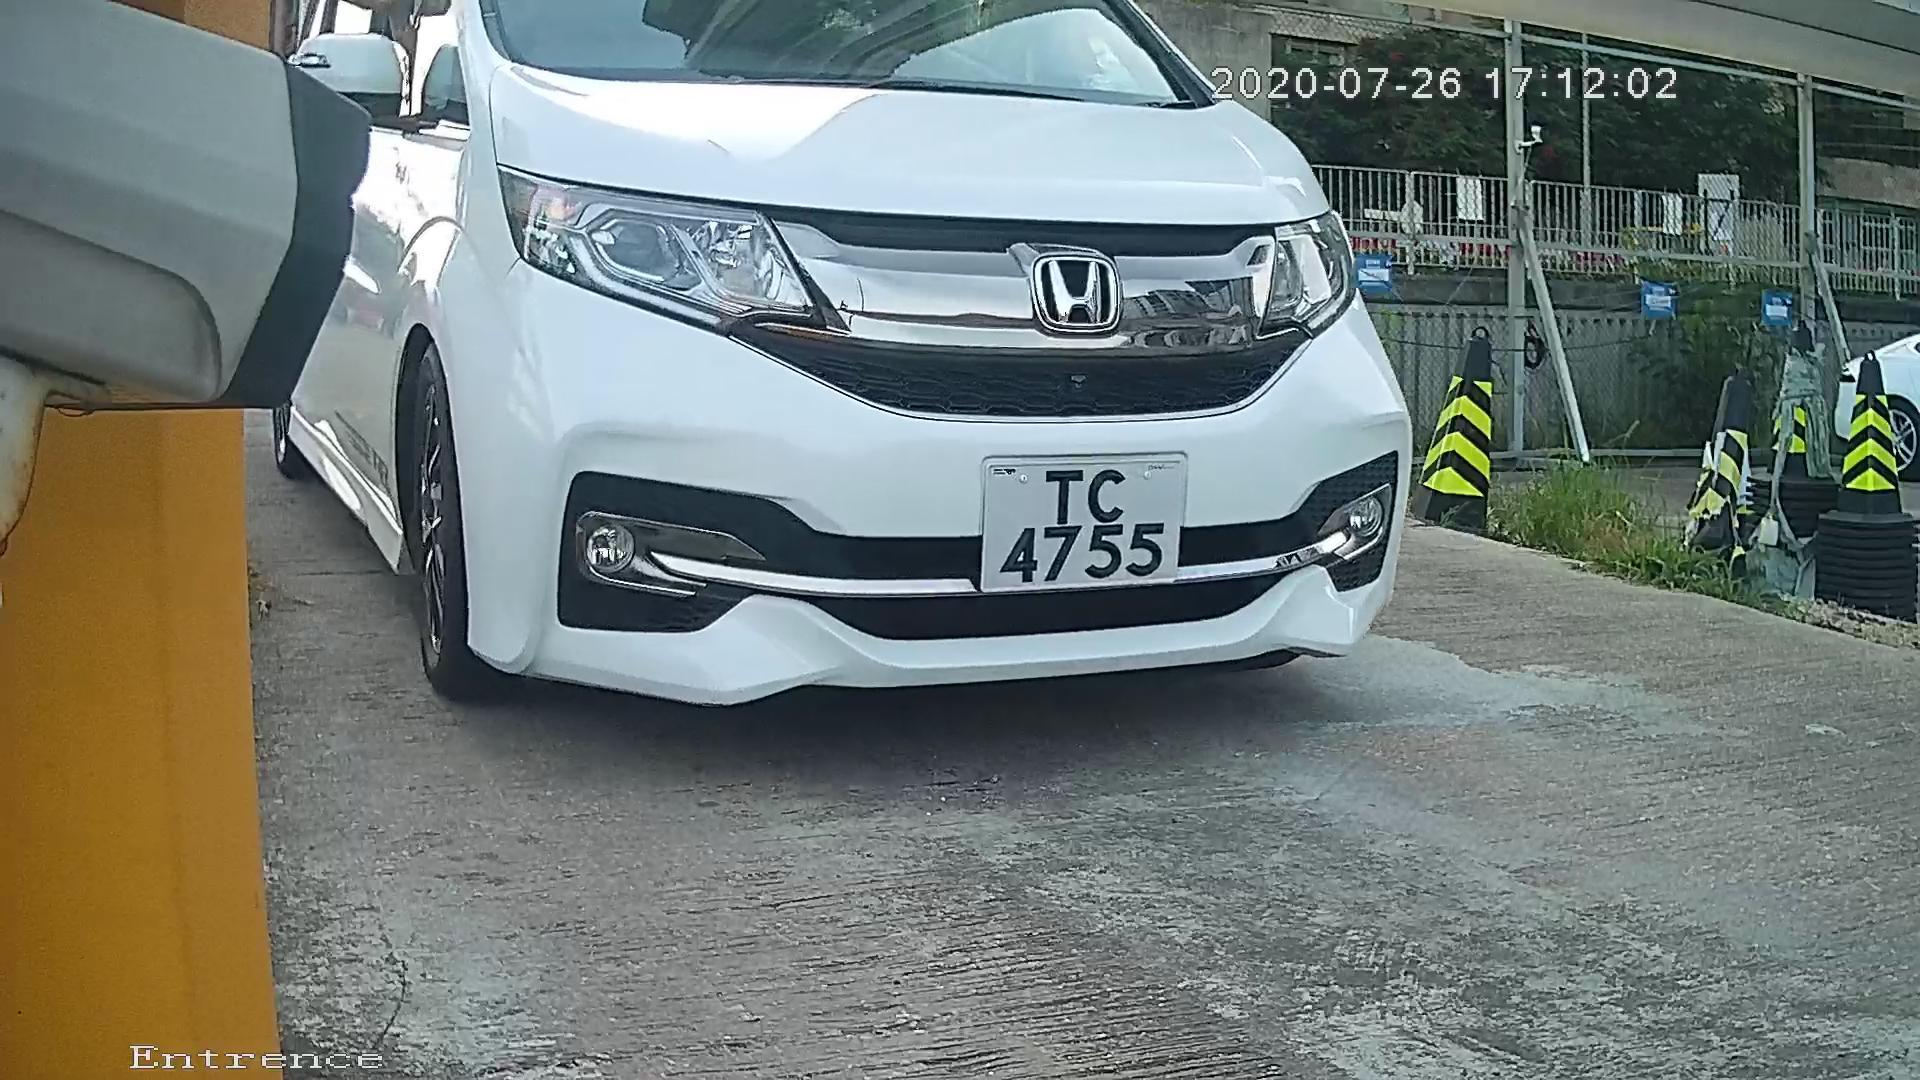privatecar: (262, 1, 1470, 799)
